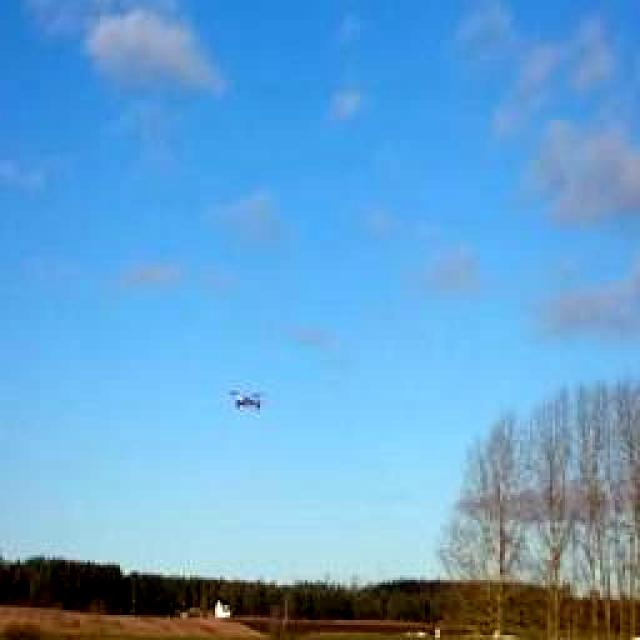bird: (216, 371, 291, 429)
